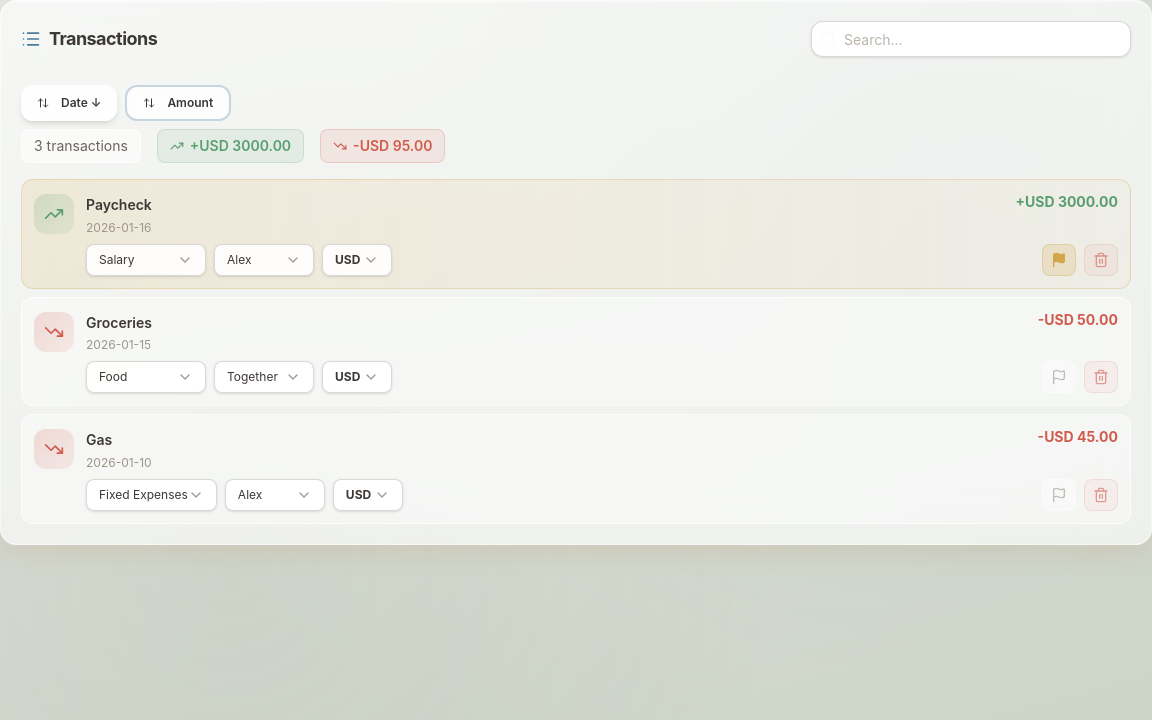
TransactionList › ConfirmDialog interaction › opens confirm dialog when delete button is clicked
Expected: the button "Groceries" is shown, [86,313,152,333]
Click the 1st button named "Delete this transaction".
click(1101, 260)  # box [1084,244,1118,276]
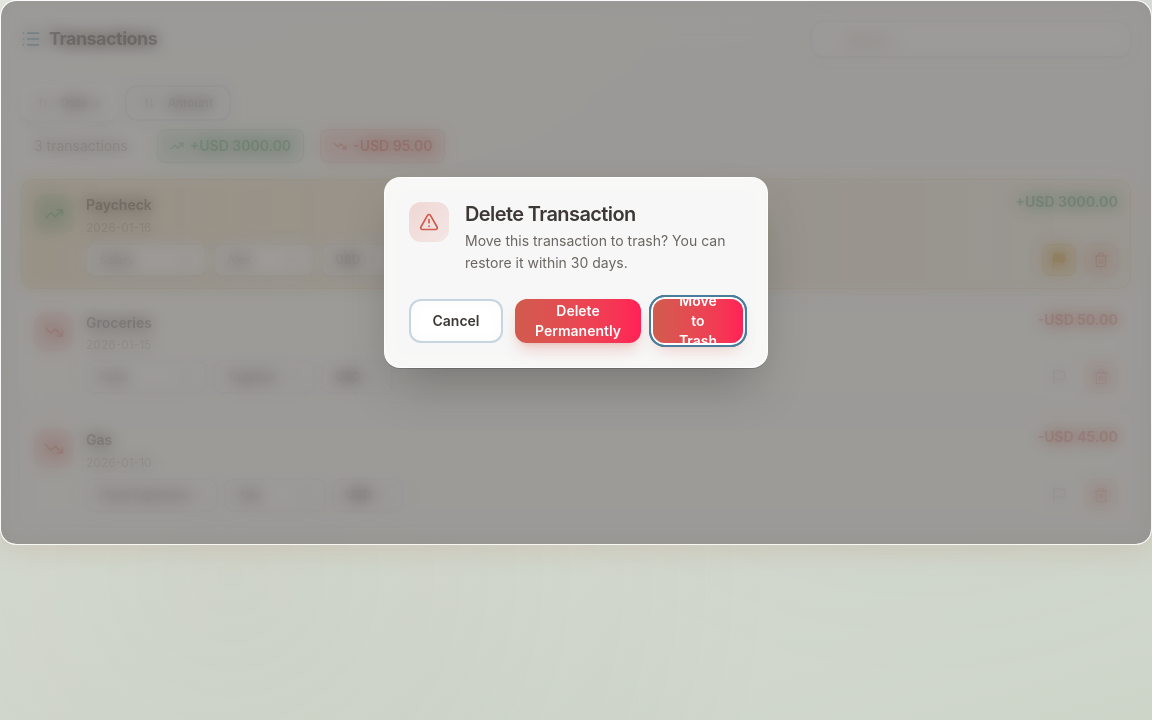
Expected: the heading "Delete Transaction" is shown, [465,202,636,226]
Expected: the text "Move this transaction to trash" is shown, [465,232,725,271]
